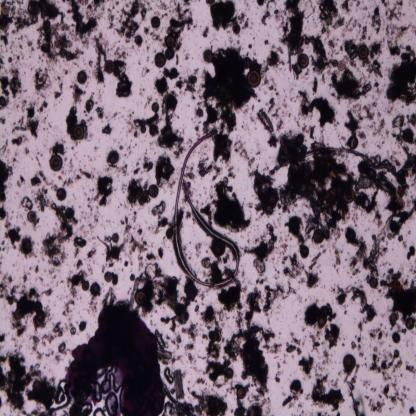Air bubble: (48, 154, 64, 172), (157, 347, 172, 359), (74, 124, 85, 140), (154, 52, 166, 66), (164, 367, 174, 383), (135, 290, 146, 304), (166, 47, 175, 60), (92, 407, 106, 415)
Background material: (250, 147, 358, 237), (202, 44, 262, 135), (133, 263, 198, 327), (224, 322, 277, 394), (0, 272, 49, 334), (0, 349, 40, 412), (211, 178, 252, 233), (42, 201, 70, 268), (158, 93, 186, 159), (37, 20, 82, 61), (379, 266, 416, 314), (245, 222, 278, 275), (387, 47, 416, 106), (296, 88, 338, 128), (168, 388, 230, 415), (330, 67, 375, 104), (279, 1, 307, 57), (68, 0, 106, 41), (13, 0, 65, 27), (309, 370, 344, 410), (303, 34, 337, 73), (200, 303, 223, 357), (368, 342, 402, 378), (164, 1, 197, 38), (261, 282, 296, 315), (24, 375, 57, 410), (341, 104, 366, 150), (344, 226, 366, 278), (119, 0, 148, 39), (350, 283, 376, 325), (96, 231, 127, 266), (304, 300, 338, 330), (278, 129, 308, 163), (12, 104, 40, 140), (76, 207, 111, 235), (358, 189, 384, 226), (216, 282, 246, 314), (91, 33, 108, 89), (205, 0, 235, 31), (32, 322, 63, 352), (128, 228, 156, 260), (0, 69, 23, 107), (318, 1, 346, 32), (91, 173, 117, 206), (153, 64, 179, 96), (384, 22, 408, 55), (382, 381, 409, 410), (398, 144, 416, 187), (234, 396, 272, 416), (180, 323, 199, 363), (155, 153, 176, 188), (126, 177, 151, 206), (115, 59, 134, 97), (212, 133, 235, 164), (284, 213, 307, 244), (66, 269, 91, 297), (133, 112, 162, 136), (0, 156, 14, 204), (150, 199, 171, 231), (283, 379, 306, 408), (245, 288, 262, 324), (349, 375, 364, 415), (204, 359, 226, 386), (18, 232, 38, 261), (236, 139, 256, 168), (197, 156, 221, 180), (176, 68, 197, 95), (32, 66, 52, 93), (64, 104, 79, 140), (281, 257, 304, 280), (62, 170, 95, 186), (208, 260, 233, 281), (350, 321, 364, 358), (104, 1, 120, 32), (256, 108, 274, 135), (382, 0, 403, 22), (3, 219, 21, 244), (344, 38, 360, 66), (84, 97, 104, 119), (0, 15, 15, 44), (171, 369, 185, 400), (392, 112, 404, 146), (70, 81, 86, 106), (33, 187, 49, 212), (30, 168, 51, 187), (267, 47, 285, 69), (285, 333, 302, 356), (324, 323, 340, 347), (198, 201, 214, 225), (70, 233, 86, 257), (233, 13, 250, 34), (332, 236, 342, 271), (325, 34, 339, 59), (370, 117, 387, 137), (371, 4, 382, 34), (52, 342, 70, 360), (121, 211, 138, 230), (303, 269, 320, 288), (366, 397, 386, 413), (335, 285, 351, 304), (300, 121, 316, 140), (108, 162, 131, 175), (299, 356, 315, 374), (307, 251, 322, 270), (268, 96, 280, 119), (264, 341, 282, 356), (369, 327, 387, 342), (344, 16, 358, 35), (61, 296, 74, 316), (363, 102, 376, 122), (140, 152, 153, 172), (7, 54, 23, 70), (87, 293, 97, 318), (267, 77, 280, 96), (370, 41, 383, 60), (124, 119, 137, 138), (20, 195, 35, 211), (9, 335, 24, 351), (310, 332, 322, 352), (54, 79, 66, 98), (50, 141, 67, 154), (113, 45, 126, 61), (267, 133, 279, 150), (259, 8, 271, 25), (234, 312, 244, 332), (256, 0, 278, 9), (406, 243, 416, 262), (321, 349, 332, 366), (340, 0, 352, 15), (10, 136, 26, 147), (38, 100, 50, 114), (0, 206, 11, 221), (201, 254, 212, 269), (406, 112, 416, 128), (142, 96, 152, 112), (0, 140, 10, 156), (150, 31, 164, 42), (103, 123, 114, 137), (194, 240, 202, 258), (276, 360, 282, 384), (0, 44, 6, 68), (35, 351, 48, 362), (170, 334, 181, 347), (201, 24, 211, 38), (77, 318, 87, 332), (195, 106, 205, 120), (397, 232, 405, 249), (178, 209, 186, 226), (0, 242, 15, 251), (17, 172, 26, 187), (185, 166, 196, 178), (404, 363, 416, 374), (134, 34, 144, 47), (254, 276, 267, 286), (311, 76, 319, 92), (279, 242, 288, 256), (194, 376, 206, 386), (274, 119, 286, 129), (14, 148, 22, 163), (141, 66, 151, 78), (362, 379, 372, 391), (158, 246, 166, 260), (108, 110, 119, 120), (86, 249, 96, 260), (132, 166, 141, 178), (362, 23, 368, 41), (26, 39, 33, 54), (21, 271, 31, 281), (227, 166, 236, 177), (135, 226, 146, 235), (408, 21, 416, 33), (68, 158, 76, 170), (43, 289, 55, 297), (85, 130, 93, 142), (112, 271, 119, 284), (281, 110, 292, 118), (76, 259, 83, 271), (126, 144, 133, 156), (166, 226, 172, 240), (34, 152, 40, 166), (36, 272, 46, 280), (0, 330, 7, 341), (369, 387, 378, 395), (408, 406, 416, 414), (315, 409, 324, 416), (34, 264, 40, 274), (357, 20, 361, 35), (0, 115, 7, 123), (176, 52, 180, 66), (129, 272, 136, 280), (300, 409, 308, 416), (139, 89, 146, 97), (306, 394, 312, 402), (282, 101, 288, 109), (186, 50, 190, 62), (146, 44, 151, 53), (263, 39, 270, 45), (188, 140, 194, 147), (177, 42, 181, 52), (124, 259, 129, 267), (336, 410, 342, 416), (24, 147, 30, 153), (356, 364, 359, 376), (60, 280, 67, 285), (146, 54, 150, 62), (120, 144, 125, 150), (93, 146, 98, 152), (362, 6, 368, 11), (88, 196, 90, 210), (19, 44, 23, 50), (344, 309, 348, 315), (368, 35, 372, 40), (249, 44, 253, 49), (70, 145, 74, 150), (365, 362, 368, 368), (356, 0, 359, 6), (342, 342, 345, 347)
Cellulose filter fibre: (288, 140, 402, 181), (367, 210, 412, 275)
Diatom: (264, 183, 280, 205), (247, 69, 263, 89), (211, 238, 227, 257), (342, 353, 356, 373), (296, 52, 310, 70), (312, 228, 326, 245), (344, 187, 356, 204), (358, 44, 369, 62), (147, 182, 159, 198), (370, 64, 384, 77), (347, 136, 360, 149), (89, 282, 101, 296), (104, 59, 115, 74), (403, 126, 413, 142), (165, 34, 176, 48), (394, 196, 405, 210), (151, 15, 161, 30), (202, 50, 213, 63), (391, 331, 401, 345), (56, 187, 66, 201), (77, 70, 87, 84), (299, 244, 309, 258), (236, 386, 247, 398), (317, 316, 328, 328), (27, 210, 37, 223), (404, 317, 414, 330), (390, 312, 399, 326), (108, 151, 118, 163), (64, 208, 74, 220), (224, 368, 234, 380), (103, 271, 112, 284), (67, 326, 78, 336), (337, 59, 345, 72), (151, 101, 159, 113), (397, 187, 406, 197), (1, 6, 10, 16)
Microfibre: (173, 128, 240, 287)
Pen: (60, 300, 164, 415)
